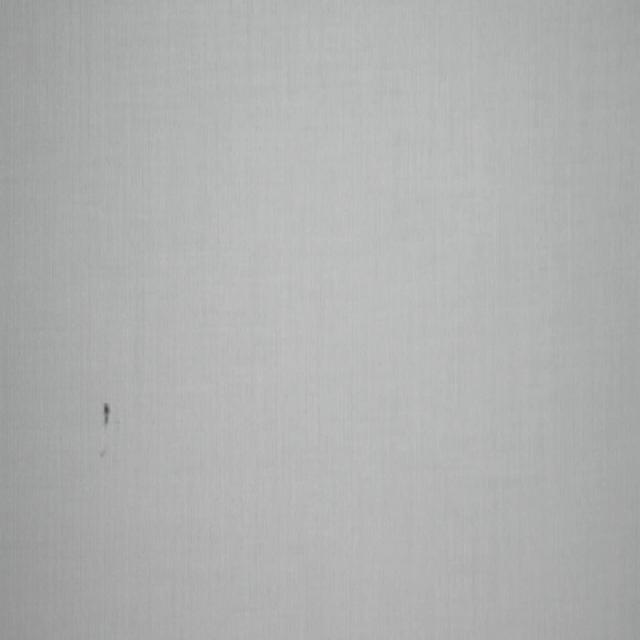dirty: (103, 402, 111, 430), (100, 450, 105, 458)
